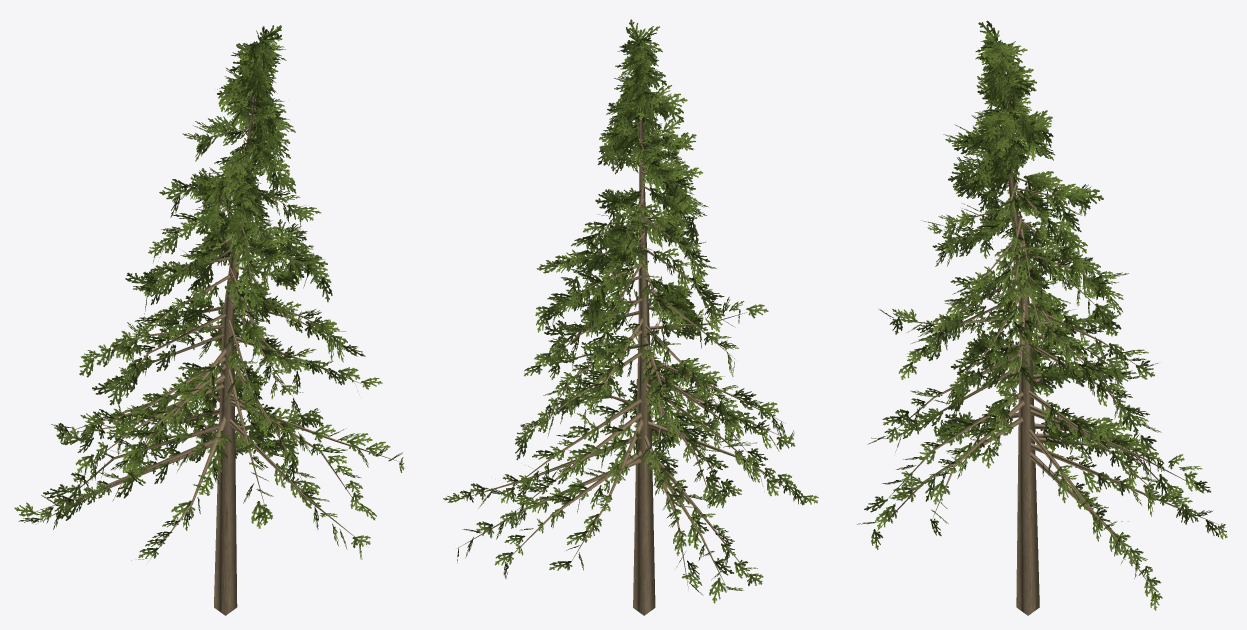
The model's file is tree_LOD2.glb.
3 views of the same model, side by side, from view 1: azimuth 30°, elevation 25°; view 2: azimuth 150°, elevation 25°; view 3: azimuth 270°, elevation 25° (orthographic). The views are drawn at different scales.
Visible parts, largest first — view 1: Leaves_LOD2, Branches_LOD2; view 2: Leaves_LOD2, Branches_LOD2; view 3: Leaves_LOD2, Branches_LOD2.
Boxes of the visible parts, x1=… form: Leaves_LOD2: x1=14, y1=25, x2=404, y2=560; Branches_LOD2: x1=35, y1=64, x2=399, y2=615; Leaves_LOD2: x1=443, y1=19, x2=818, y2=603; Branches_LOD2: x1=459, y1=42, x2=801, y2=615; Leaves_LOD2: x1=857, y1=20, x2=1227, y2=610; Branches_LOD2: x1=873, y1=72, x2=1221, y2=615.
Bounding box in the file's own units: 29.26 × 51.59 × 29.46.
2 materials, 2 textured.
